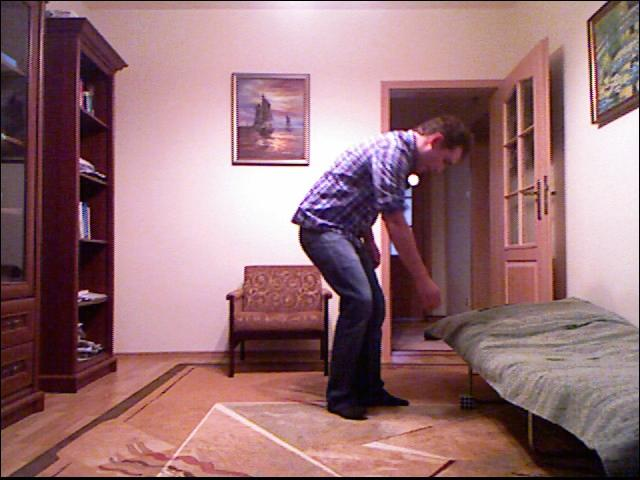bending: (288, 110, 490, 420)
